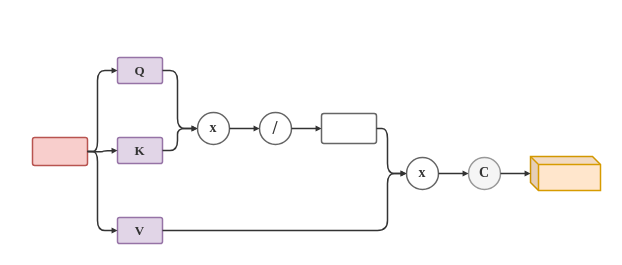
This 622x265 diagram has some shape labels left out. Here are the shapes that lost their labels. From the top down, the centre of each, then its label:
At (348,128): "Softmax".
At (59,151): "Input".
At (565,173): "FC Out".
